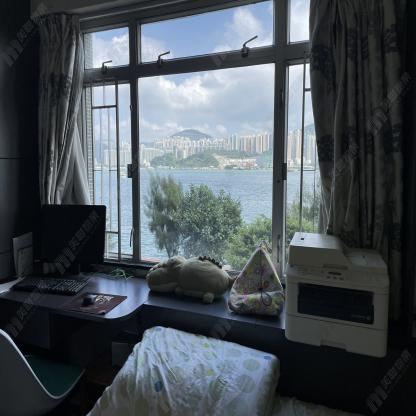Bed: (86, 324, 365, 415)
